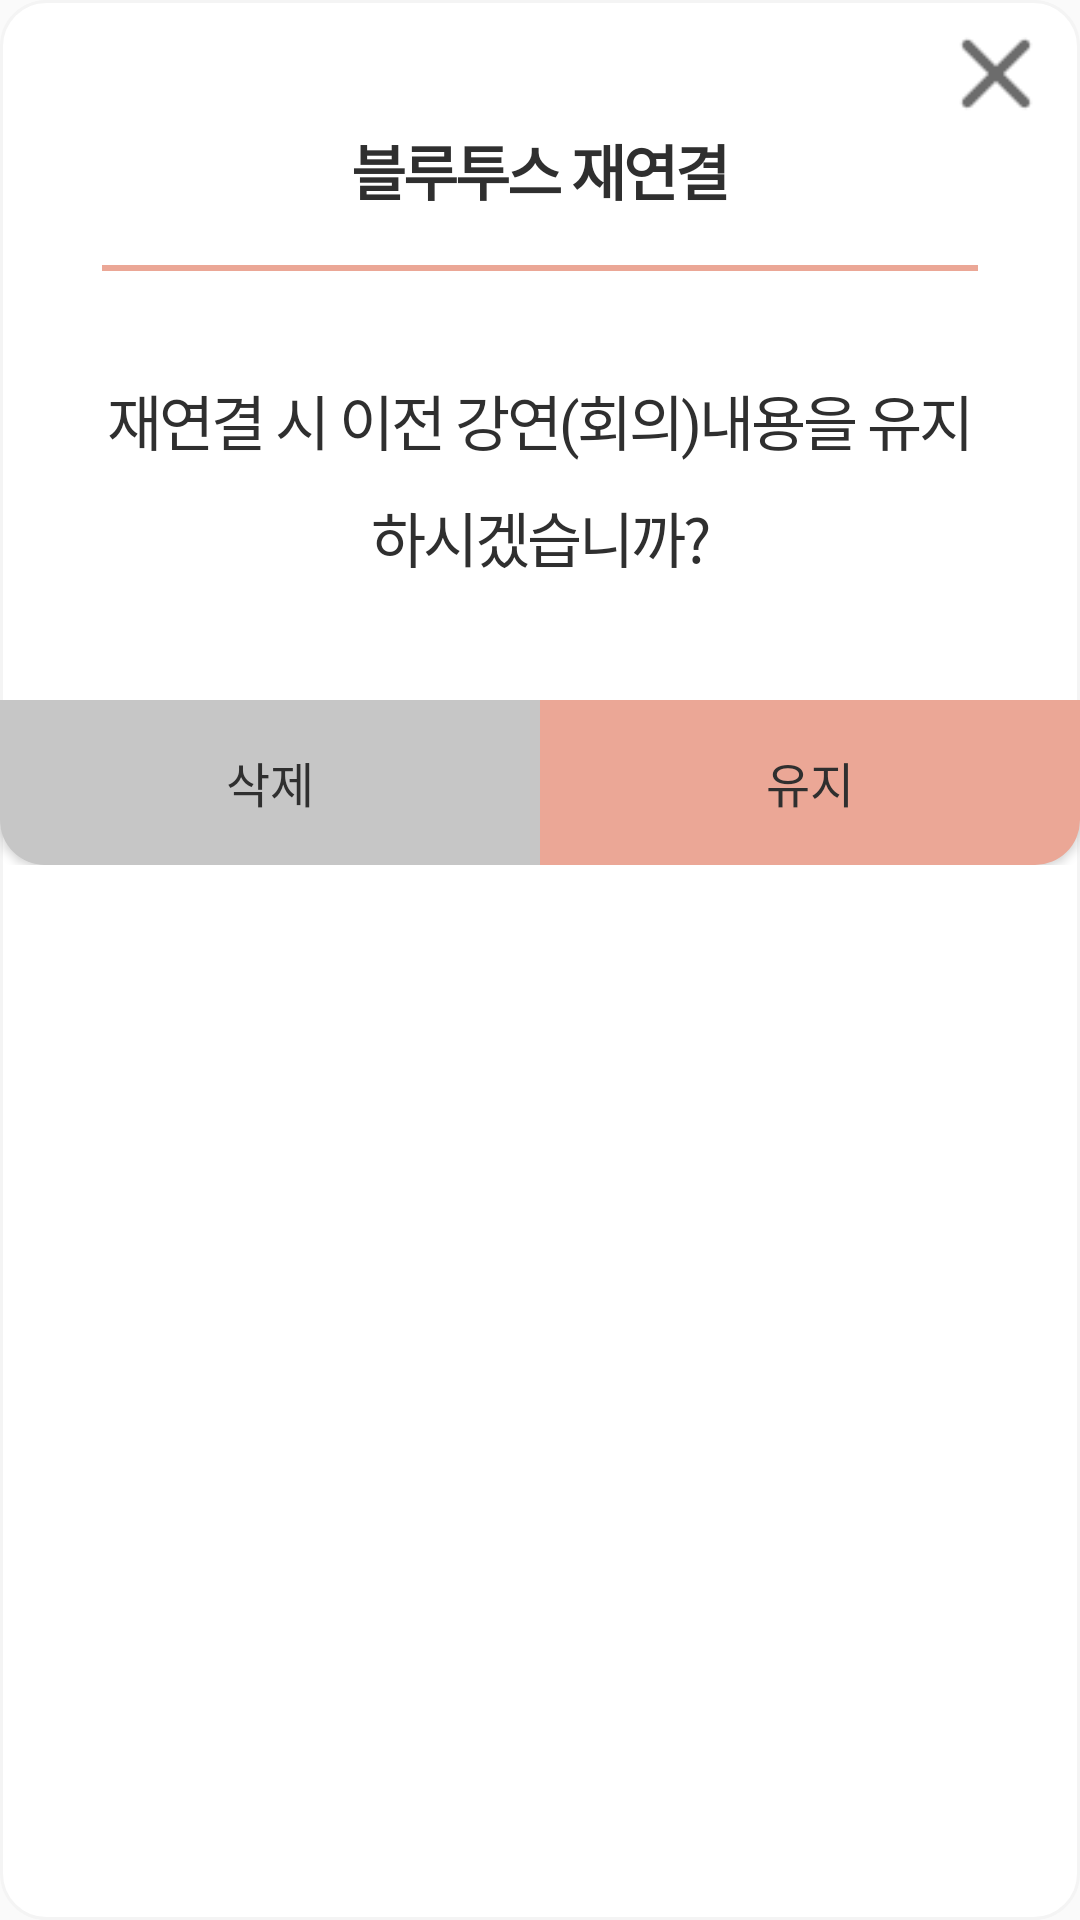

Where to tap for icons on this 1080px×1920px app screen, as (x=x, y=y):
닫기: (x=996, y=73)
